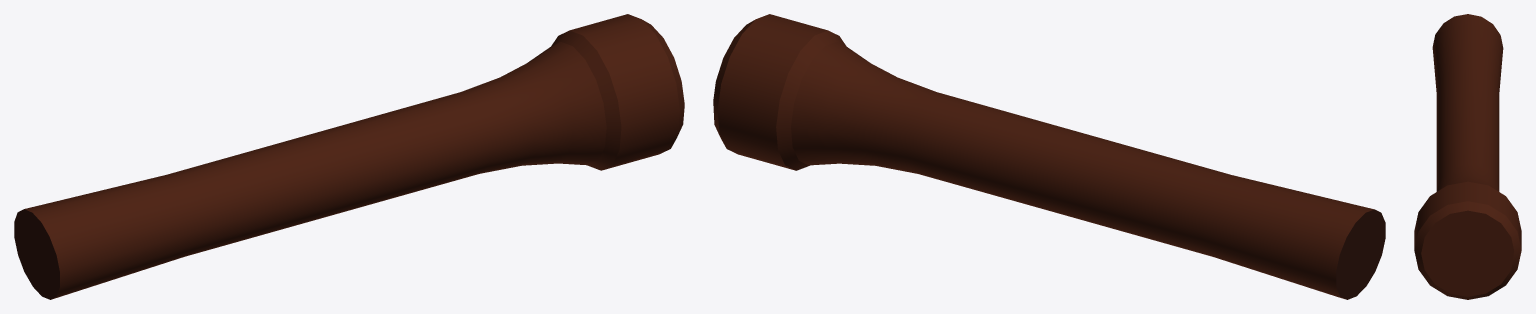
The model's file is BatteBaseBall_Part_3.fbx.
3 views of the same model, side by side, from view 1: azimuth 30°, elevation 25°; view 2: azimuth 150°, elevation 25°; view 3: azimuth 270°, elevation 25° (orthographic). The views are drawn at different scales.
Parts seen in each view (by area): view 1: BatteBaseBall_Part_3; view 2: BatteBaseBall_Part_3; view 3: BatteBaseBall_Part_3.
Part boxes in pixels (bbox=[...]): BatteBaseBall_Part_3: bbox=[14, 14, 684, 299]; BatteBaseBall_Part_3: bbox=[713, 14, 1385, 299]; BatteBaseBall_Part_3: bbox=[1414, 14, 1521, 299].
Bounding box in the file's own units: 38.15 × 7.8 × 7.67.
